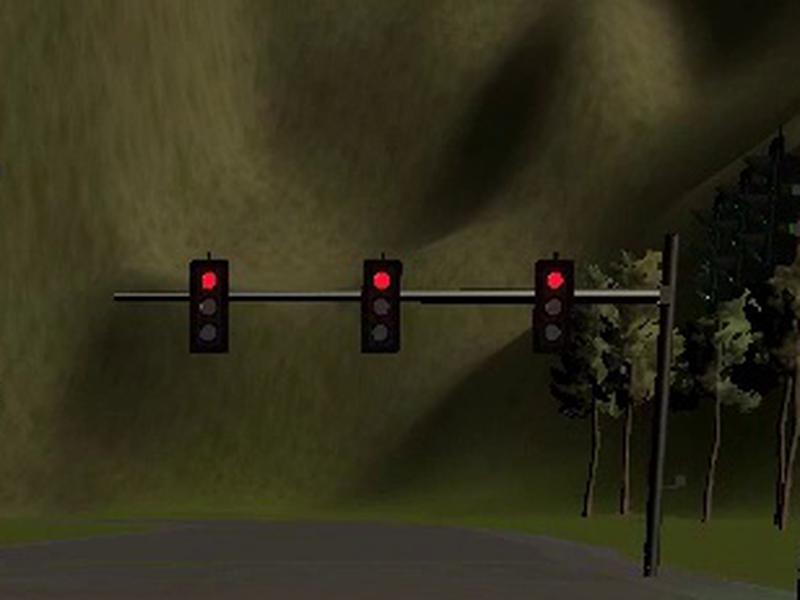Red: (534, 260, 576, 354), (188, 260, 229, 354), (361, 260, 399, 354)
